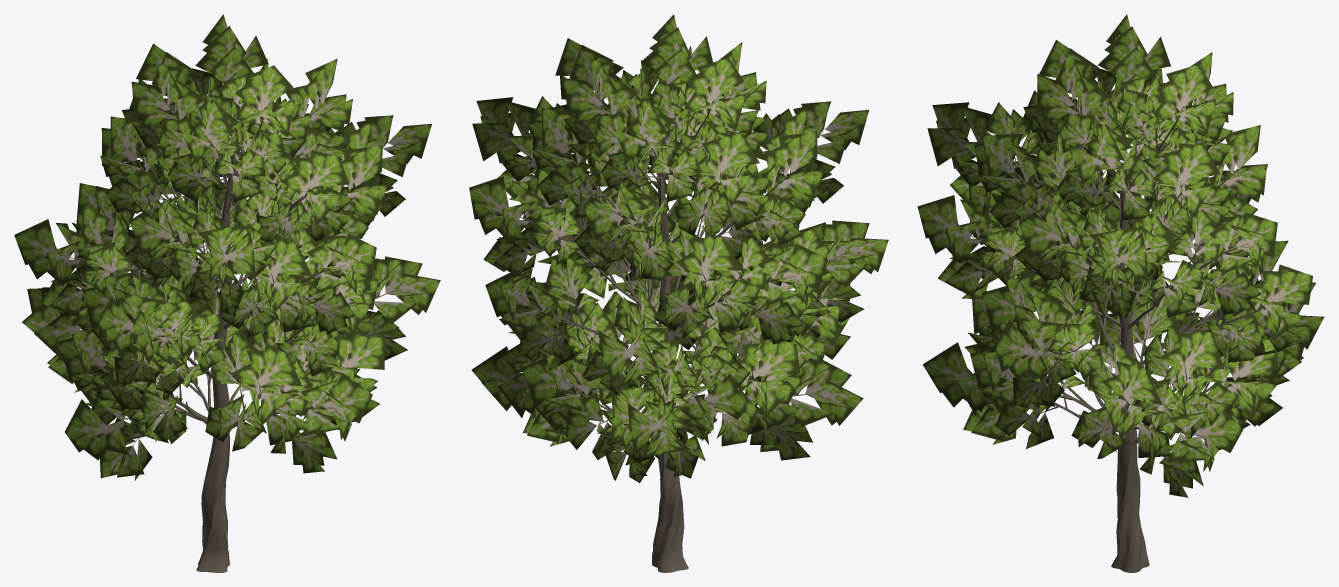
The model's file is hetre_feuilles.glb.
3 renders of one model, left to right at view 1: azimuth 30°, elevation 25°; view 2: azimuth 150°, elevation 25°; view 3: azimuth 270°, elevation 25°, orthographic.
Visible parts, largest first — view 1: Tree_1, Tree_0; view 2: Tree_1, Tree_0; view 3: Tree_1, Tree_0.
Boxes of the visible parts, x1=… form: Tree_1: x1=14, y1=14, x2=440, y2=480; Tree_0: x1=70, y1=95, x2=399, y2=572; Tree_1: x1=469, y1=14, x2=888, y2=482; Tree_0: x1=519, y1=86, x2=849, y2=572; Tree_1: x1=917, y1=14, x2=1324, y2=497; Tree_0: x1=971, y1=90, x2=1272, y2=572.
Size of the model in its own units: 28.95 by 38.05 by 26.8.
Materials: 2 (1 with a texture image).
